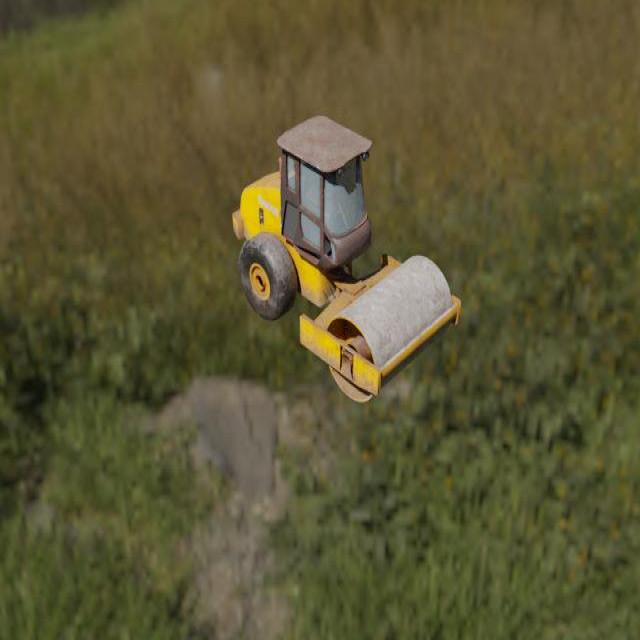Roller: (232, 115, 461, 401)
